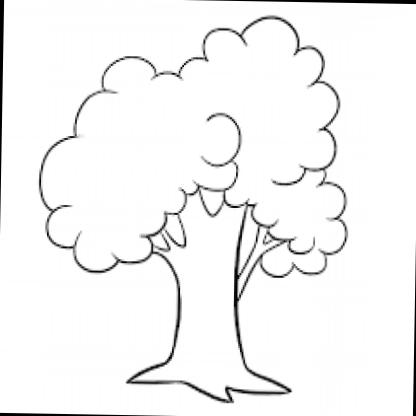branch_cut: (152, 190, 280, 266)
crown_cloud: (37, 15, 350, 279)
root_only: (124, 362, 291, 406)
trunk_straight: (171, 268, 242, 354)
